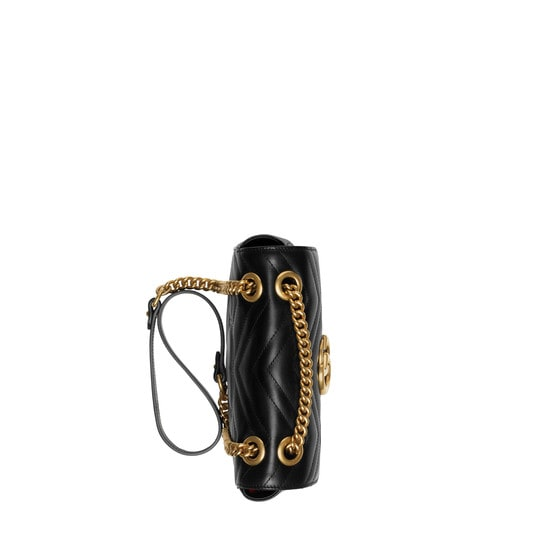Gucci: (196, 209, 381, 515), (233, 300, 294, 434)
